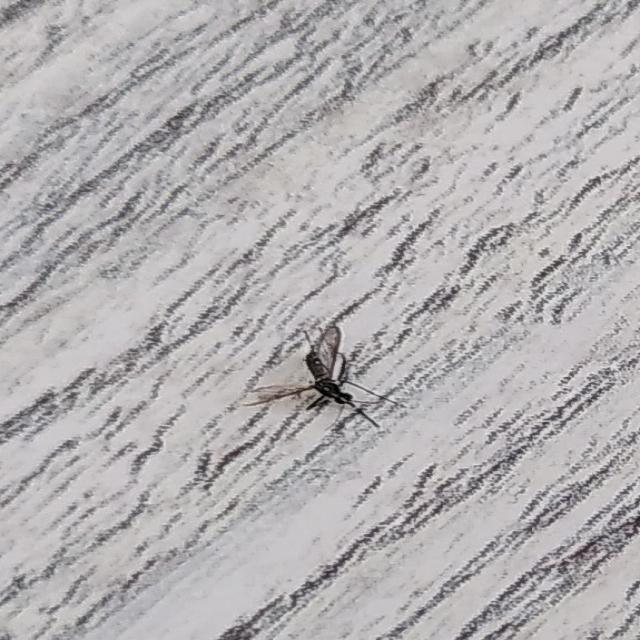albopictus: (243, 324, 406, 440)
